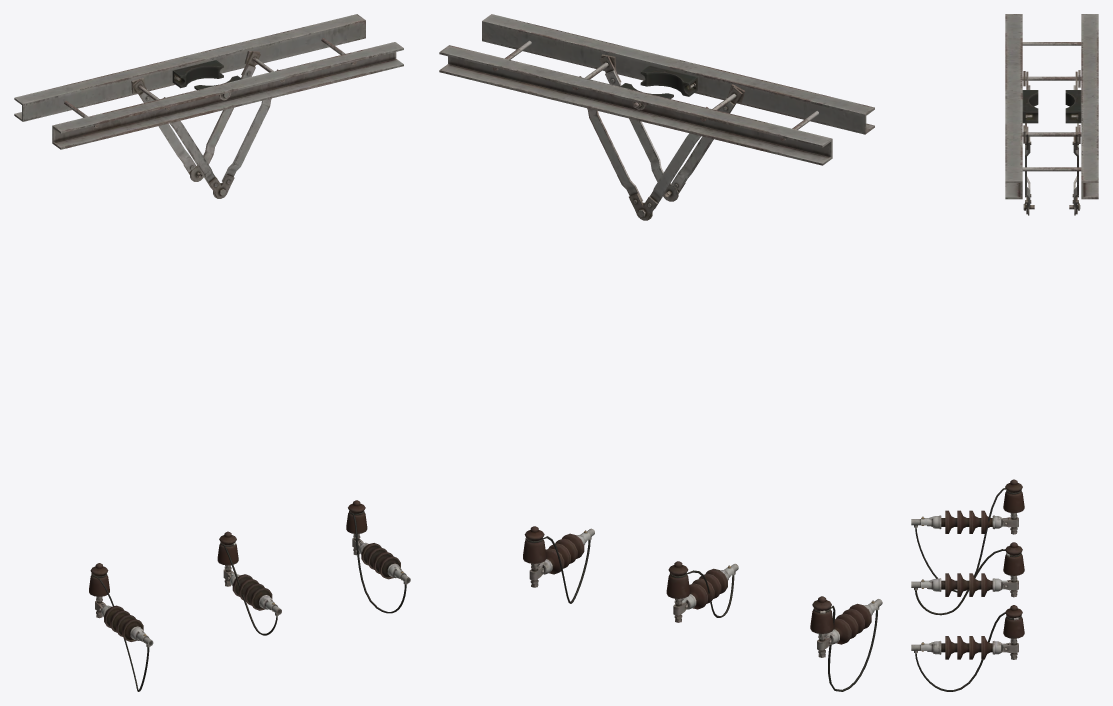
File: modular_electricity_poles.glb
The picture shows the model from 3 angles, left to right: view 1: azimuth 30°, elevation 25°; view 2: azimuth 150°, elevation 25°; view 3: azimuth 270°, elevation 25°; orthographic projection. The views are drawn at different scales.
Visible parts, largest first — view 1: support_large_01, insulators_large; view 2: support_large_01, insulators_large; view 3: support_large_01, insulators_large.
Part boxes in pixels (x1,y1,x2,y2): support_large_01: [14, 14, 403, 198]; insulators_large: [89, 500, 410, 691]; support_large_01: [439, 14, 874, 220]; insulators_large: [523, 526, 882, 691]; support_large_01: [1005, 14, 1098, 215]; insulators_large: [911, 479, 1024, 691].
Size of the model in its own units: 1.2 by 1.85 by 0.5676.
1 material, 1 textured.
